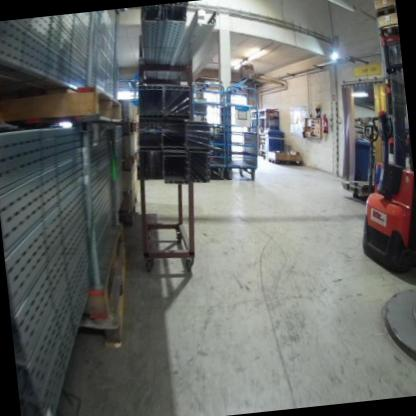pallet: (69, 262, 134, 349), (116, 195, 139, 227), (268, 154, 302, 170), (379, 23, 397, 32), (375, 4, 395, 12)
pallet_truck: (341, 35, 416, 280), (343, 112, 386, 196)
